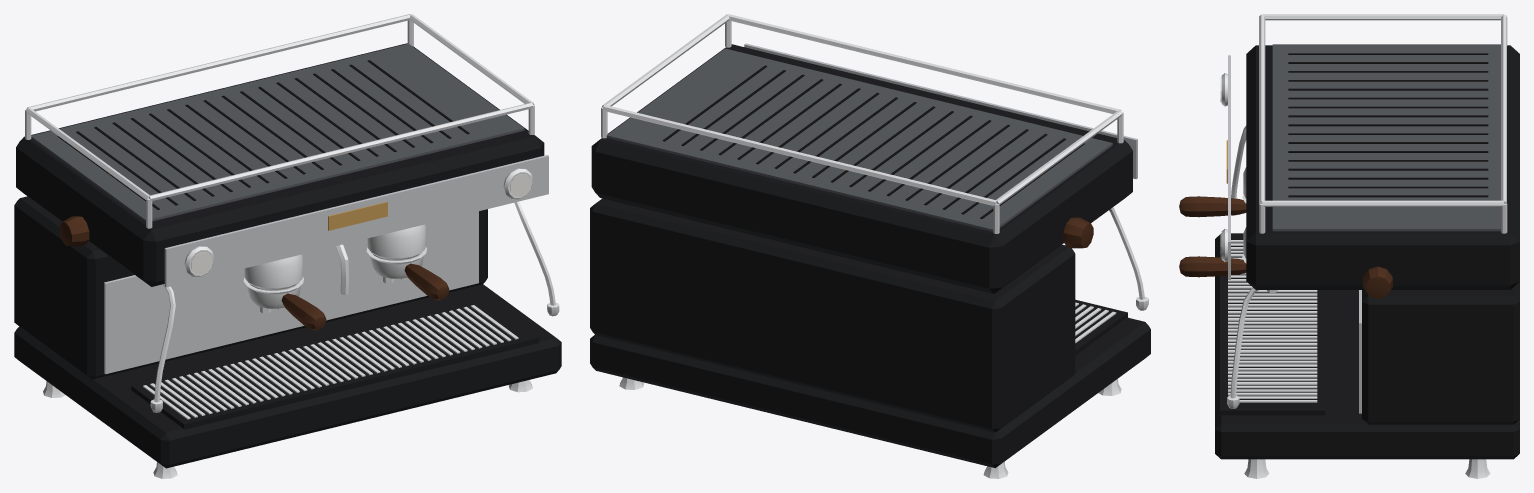
The model's file is espresso_black.glb.
The picture shows the model from 3 angles, left to right: view 1: azimuth 30°, elevation 25°; view 2: azimuth 150°, elevation 25°; view 3: azimuth 270°, elevation 25°; orthographic projection. The views are drawn at different scales.
Visible parts, largest first — view 1: black_2g; view 2: black_2g; view 3: black_2g.
Boxes of the visible parts, x1,y1,x2,y2 form: black_2g: (14, 14, 561, 478); black_2g: (590, 14, 1150, 478); black_2g: (1179, 14, 1519, 478).
Size of the model in its own units: 0.96 by 0.5858 by 0.648.
